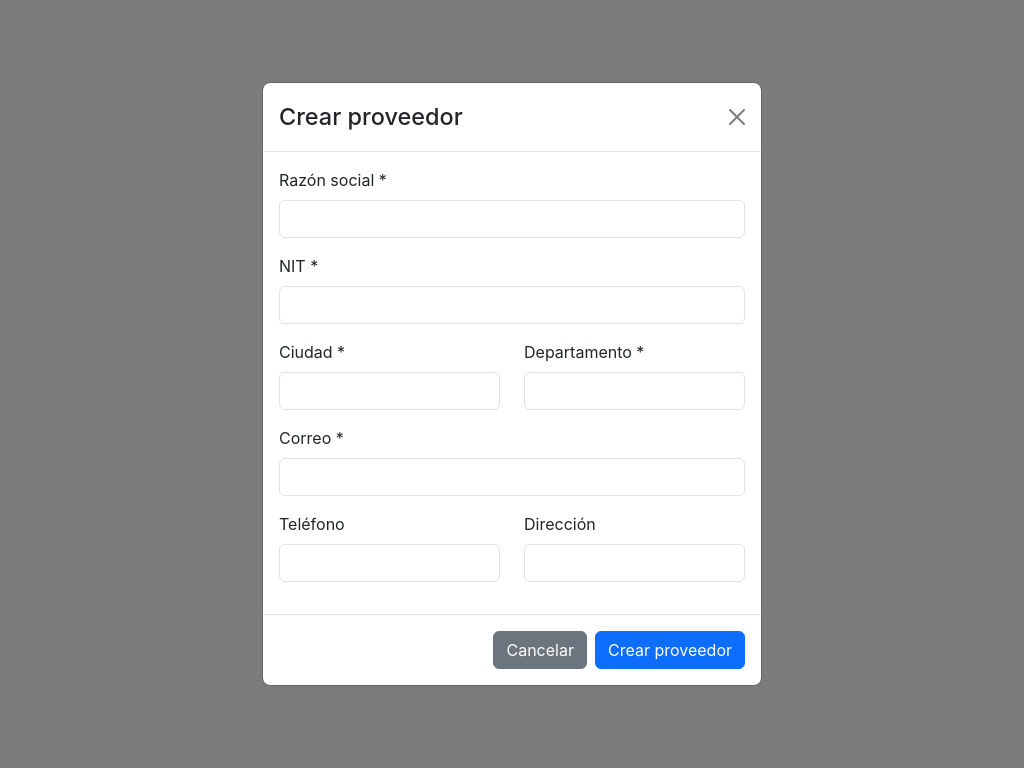
Test: CrearProveedorModal › rejects an invalid email
Type "Metrologia Andina SAS" into the field labelled "Razón social *" at (512,219), box [279,200,745,238]
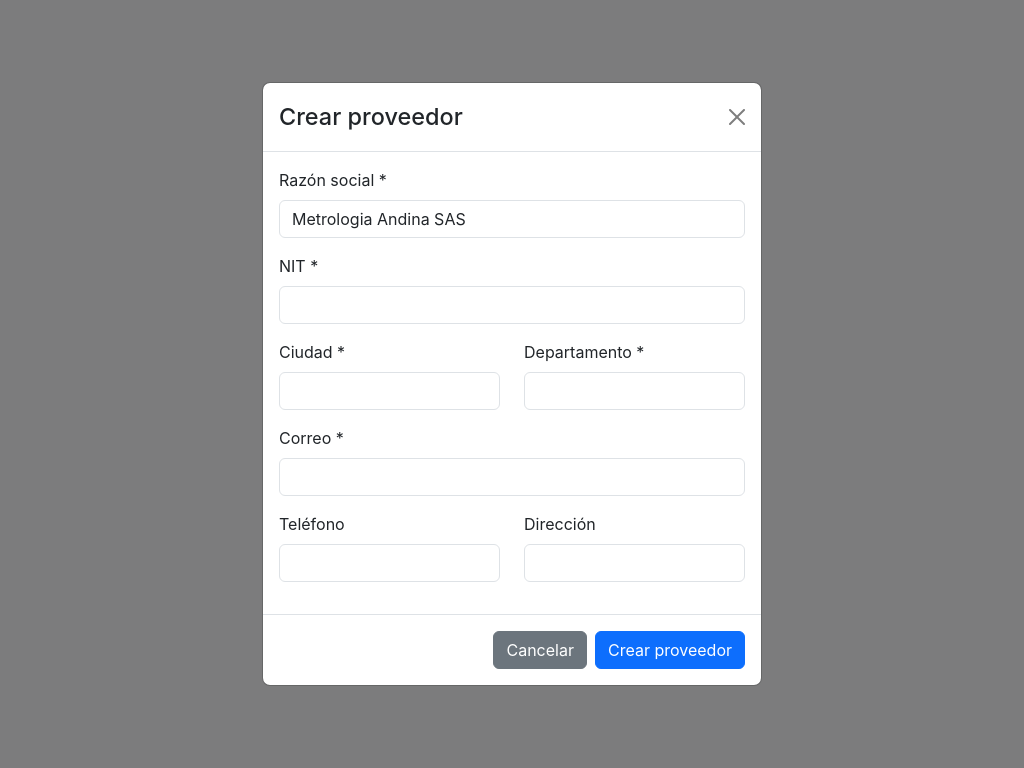
Type "900111222" into the field labelled "NIT *" at (512,305), box [279,286,745,324]
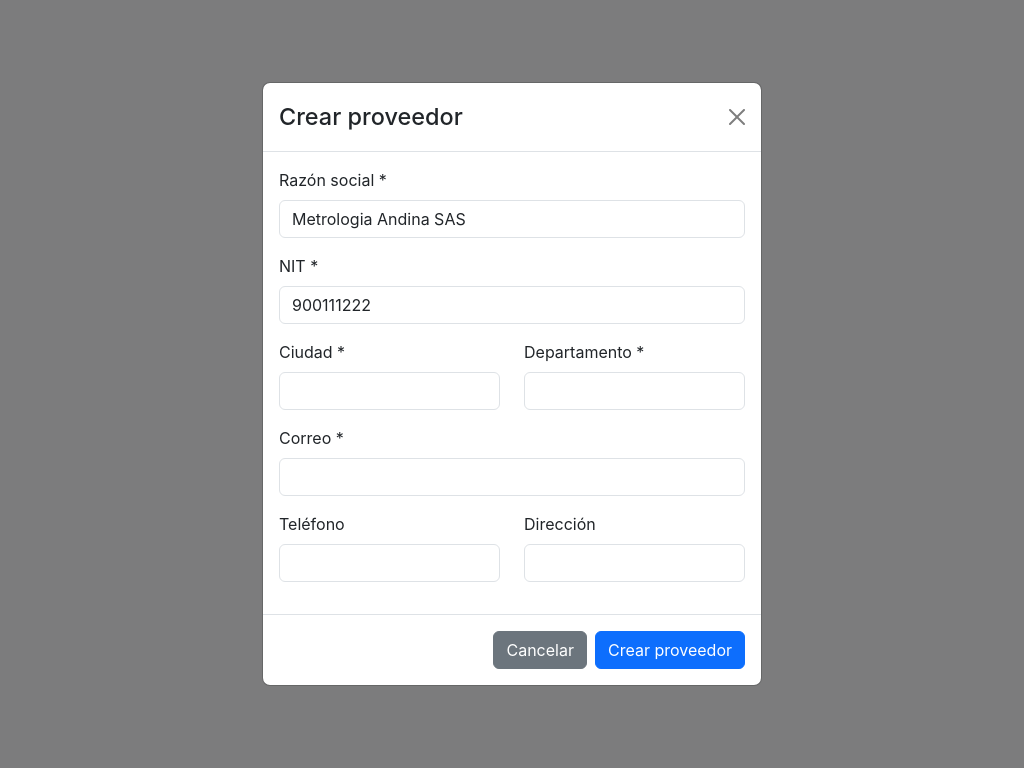
Type "Bogota" into the field labelled "Ciudad *" at (390,391), box [279,372,500,410]
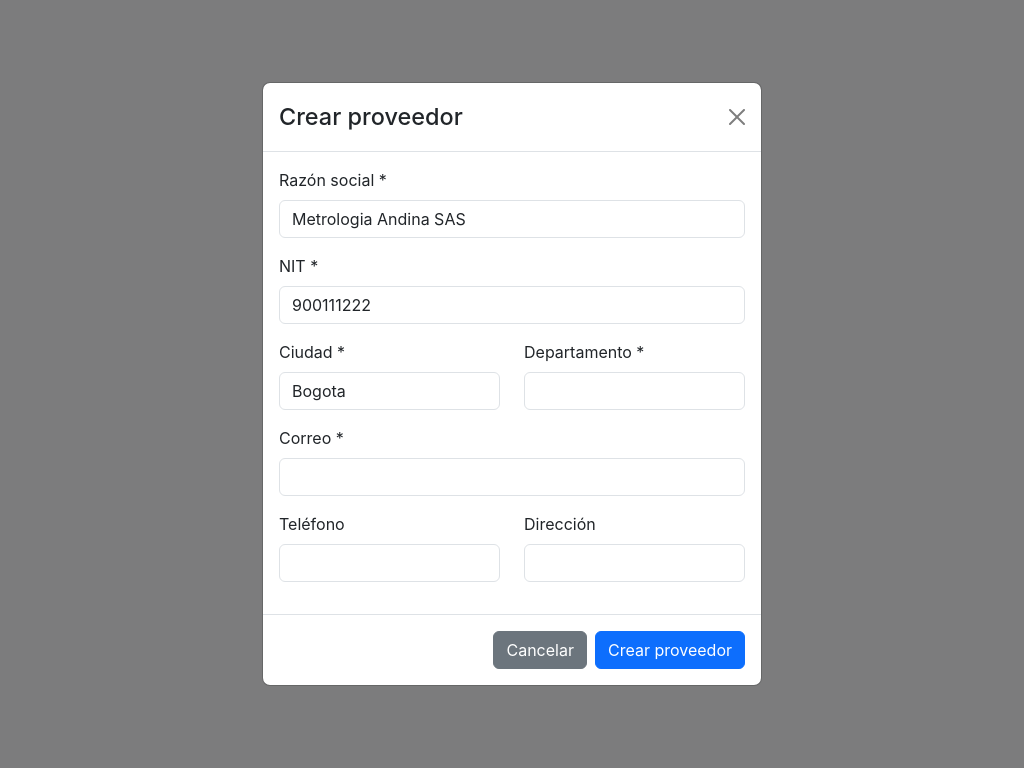
Type "Cundinamarca" into the field labelled "Departamento *" at (634,391), box [524,372,745,410]
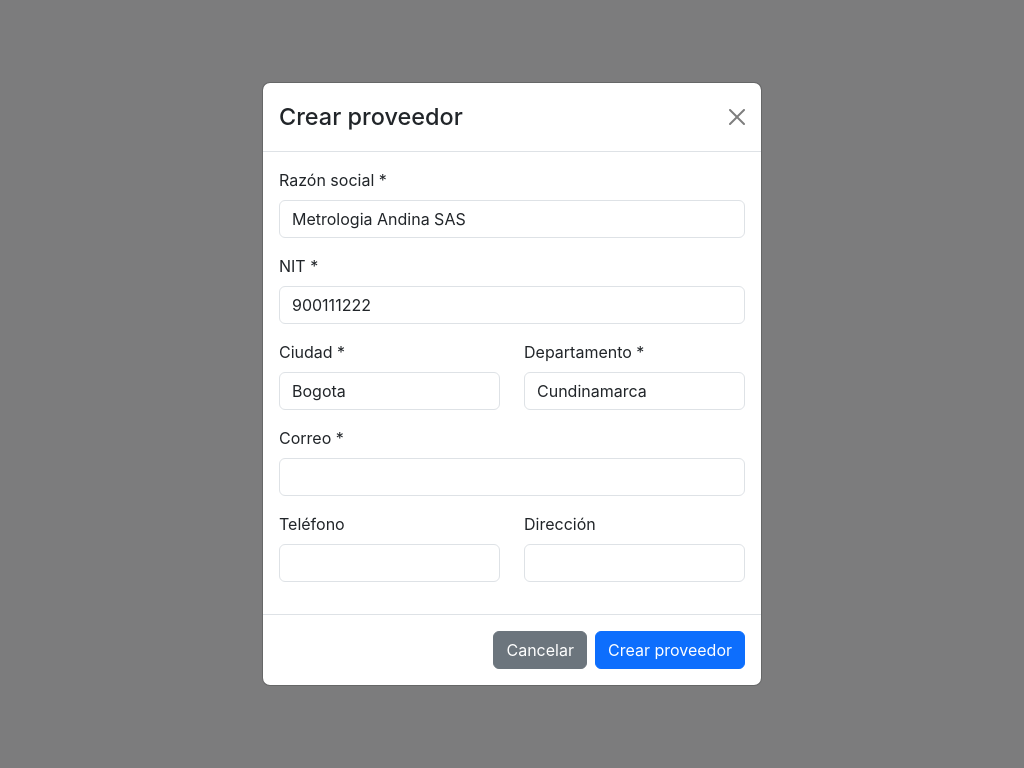
Type "no-es-correo" into the field labelled "Correo *" at (512,477), box [279,458,745,496]
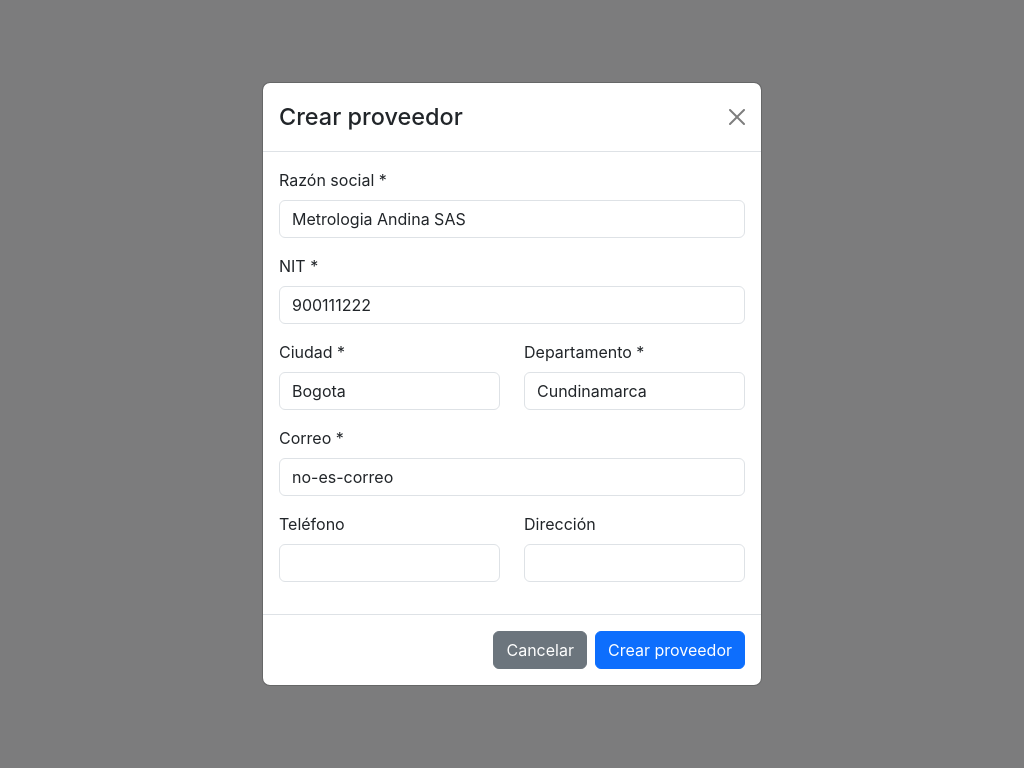
Click the button "Crear proveedor" at (670,650), box [595,631,745,669]
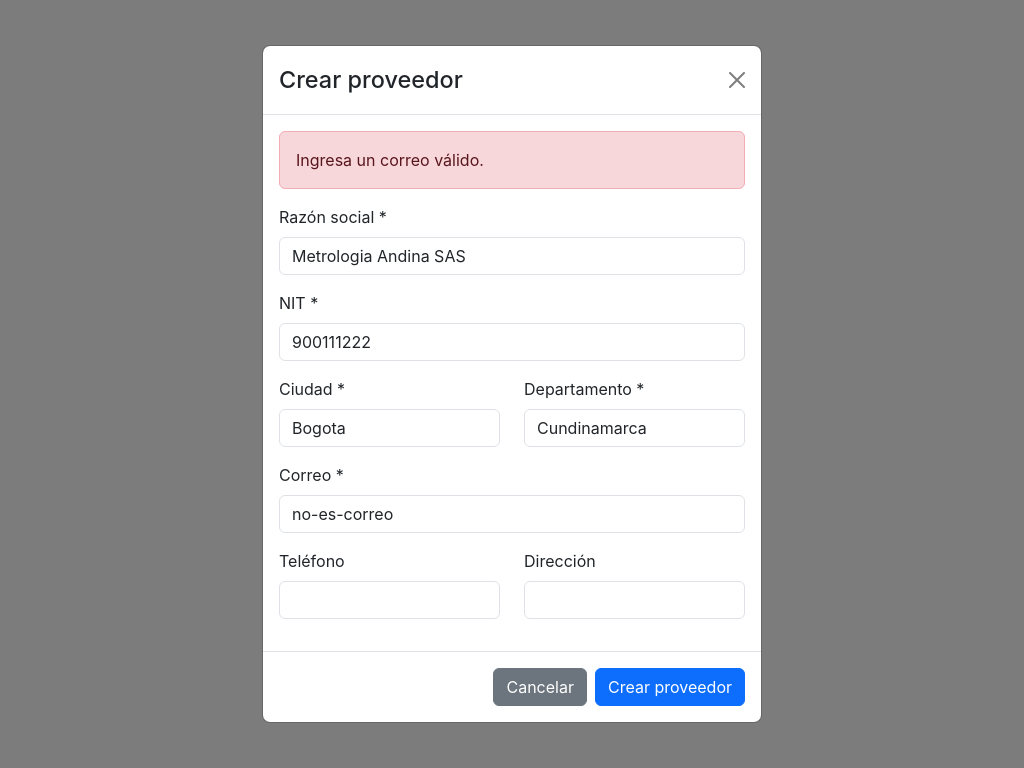
Now the text "Ingresa un correo válido." is shown, box [279,131,745,189]
